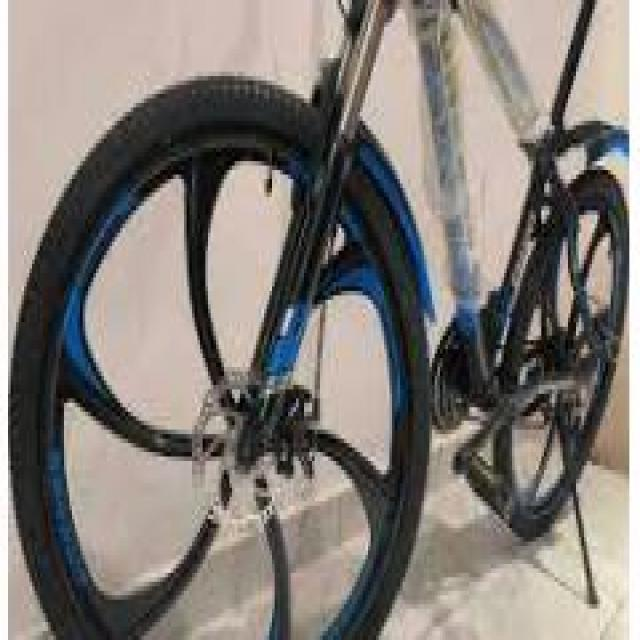bicycle: (12, 1, 634, 640)
